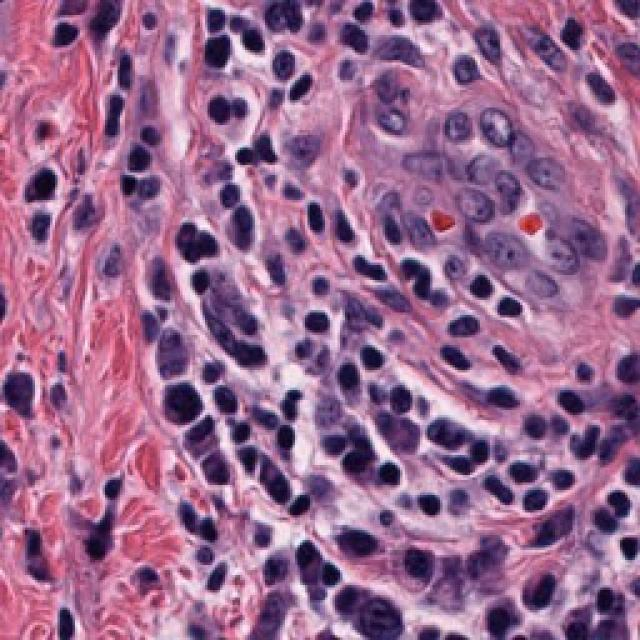abnormal: (133, 314, 211, 385), (345, 585, 421, 640), (464, 89, 529, 153), (525, 139, 583, 202), (449, 179, 508, 231), (535, 229, 585, 287), (278, 119, 331, 166), (526, 196, 601, 197)
